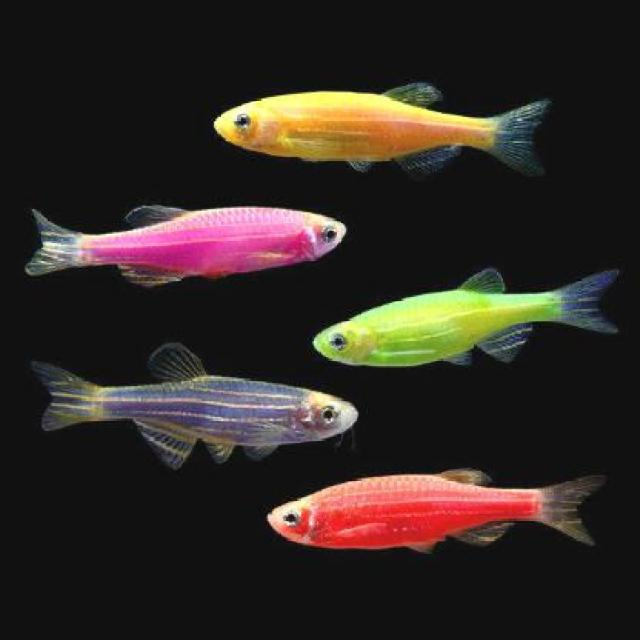ZebraFish: (28, 336, 360, 467), (315, 260, 627, 371), (206, 77, 548, 175), (19, 190, 347, 284), (264, 460, 594, 552)
